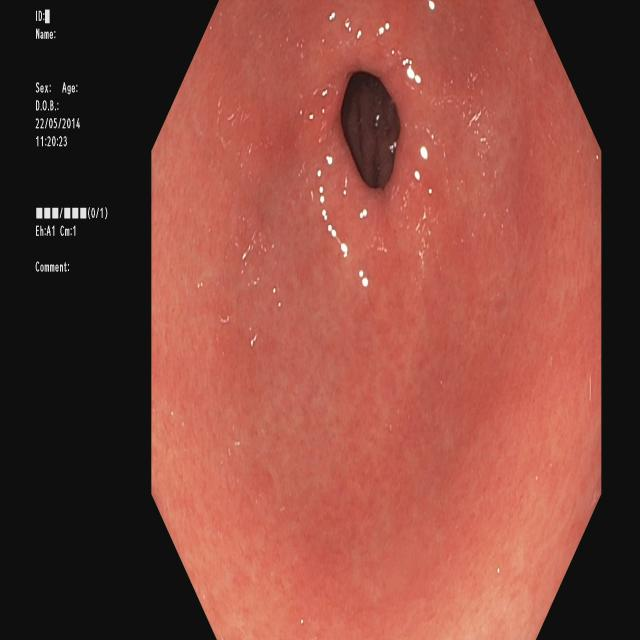normal-pylorus: (275, 0, 456, 314)
